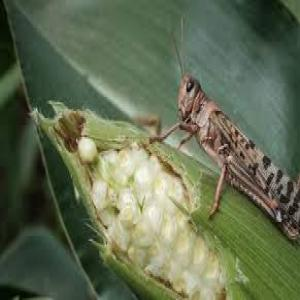locust: (172, 39, 300, 237)
